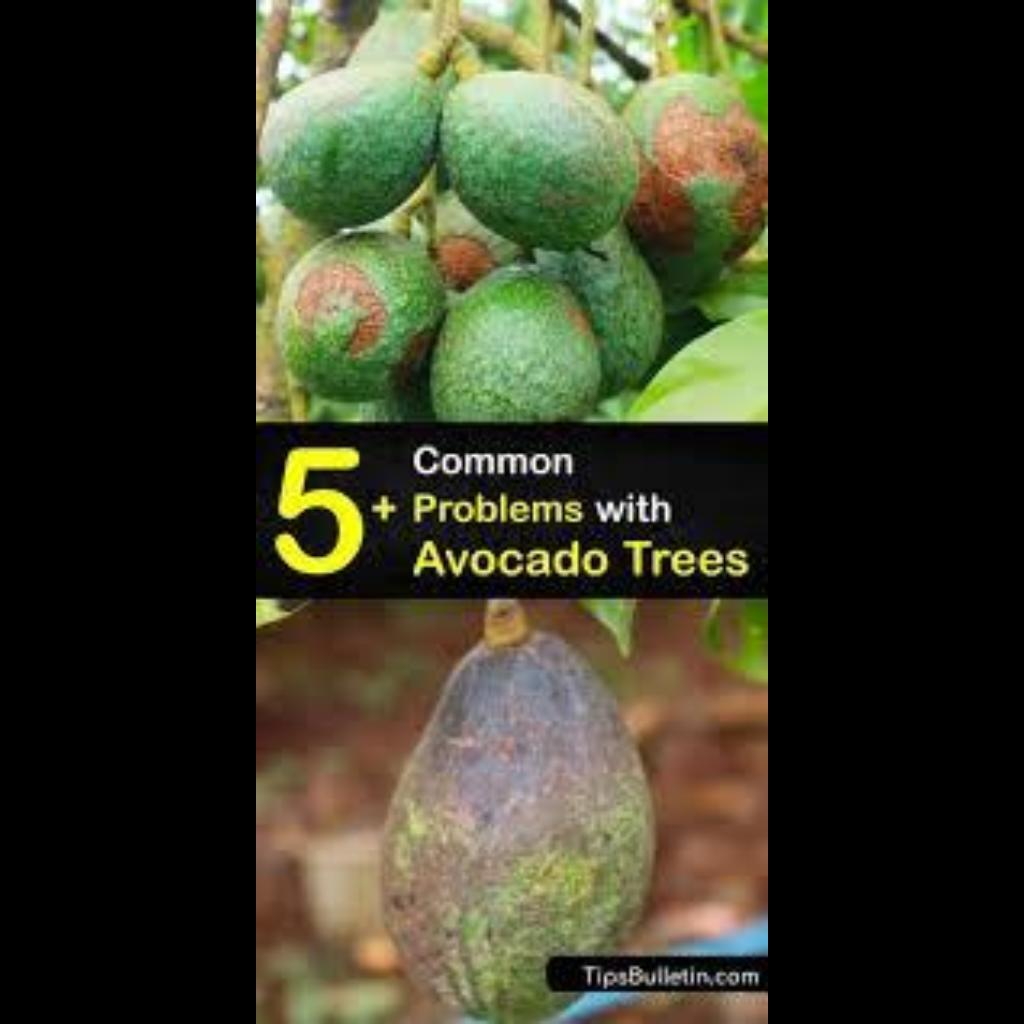Anthracnose: (362, 634, 684, 996)
